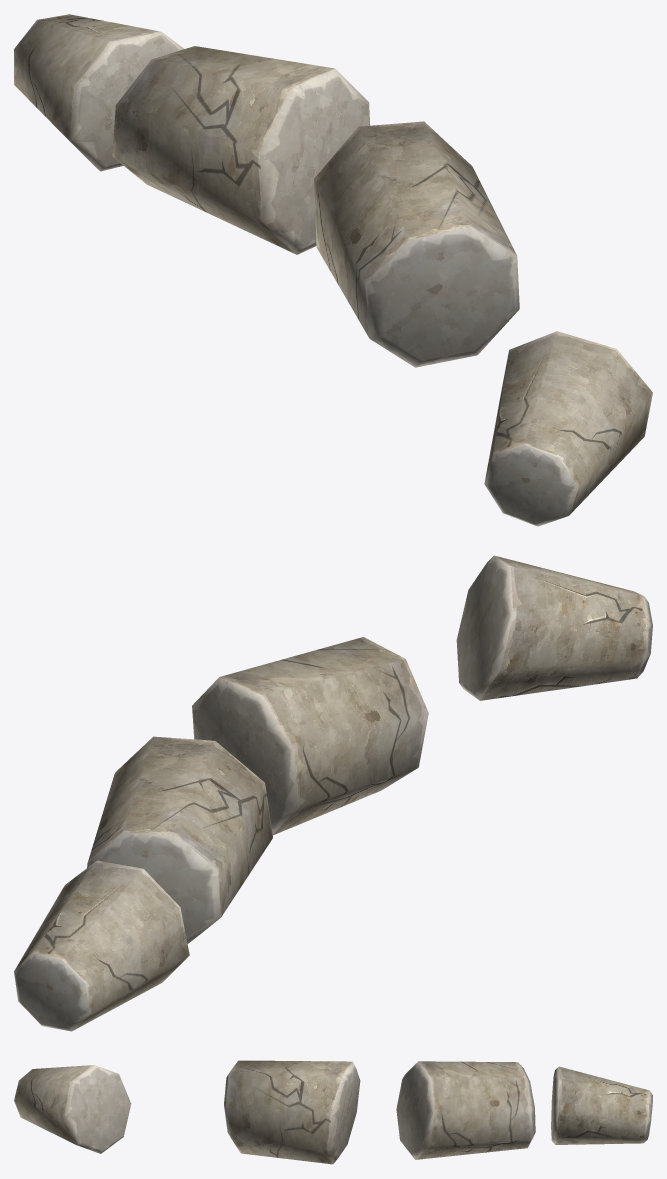
File: Toon_Column_02_Broken.fbx
3 renders of one model, top to bottom at view 1: azimuth 30°, elevation 25°; view 2: azimuth 150°, elevation 25°; view 3: azimuth 270°, elevation 25°, orthographic. The views are drawn at different scales.
Parts seen in each view (by area): view 1: Toon_Column_02_Broken; view 2: Toon_Column_02_Broken; view 3: Toon_Column_02_Broken.
Boxes of the visible parts, <box> form: Toon_Column_02_Broken: <box>14,14,652,526</box>; Toon_Column_02_Broken: <box>14,555,652,1031</box>; Toon_Column_02_Broken: <box>14,1060,652,1164</box>.
Bounding box in the file's own units: 5.28 × 3.42 × 22.
